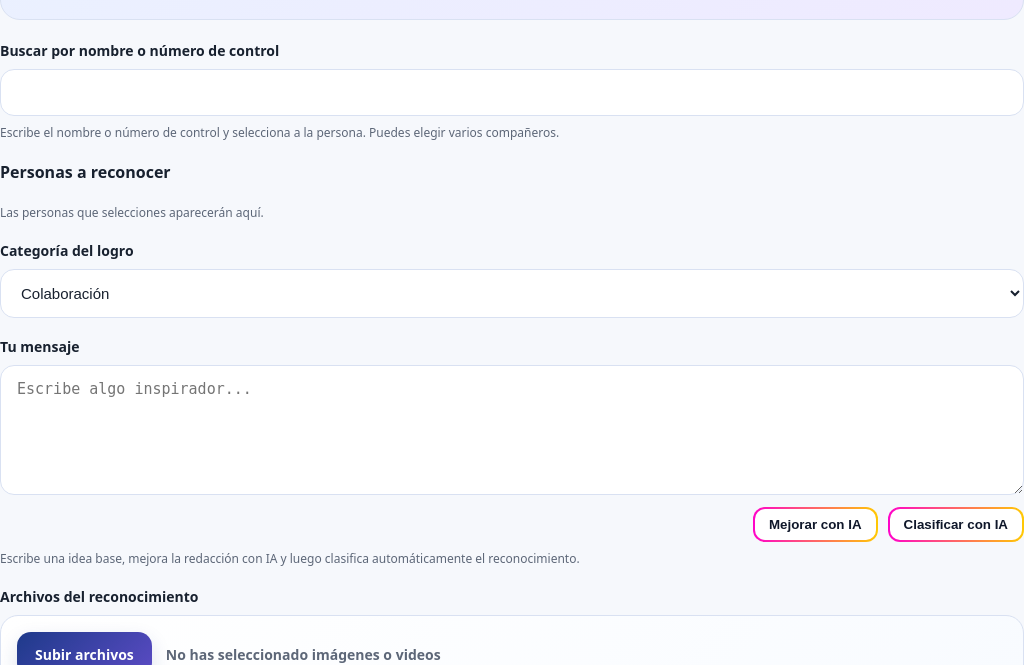
uses the same search field for control numbers and excludes selected people
Type "220113033" into the field labelled "Buscar por nombre o número de control" at (512, 93), box [0,69,1023,116]
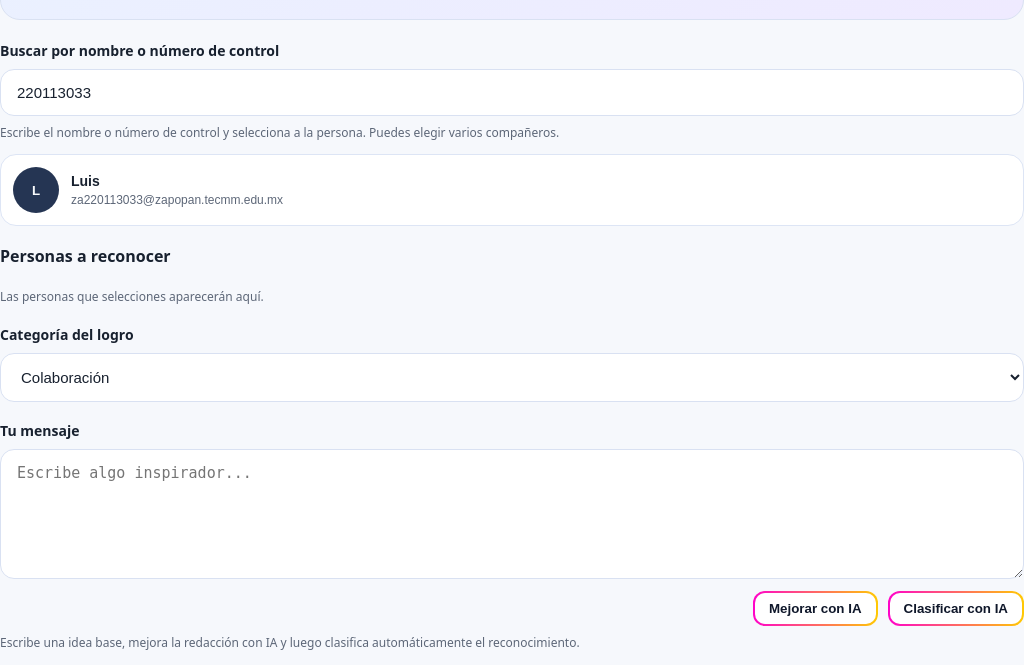
Click the button "L Luis za220113033@zapopan.tecmm.edu.mx" at (36, 190), box [0,154,1023,226]
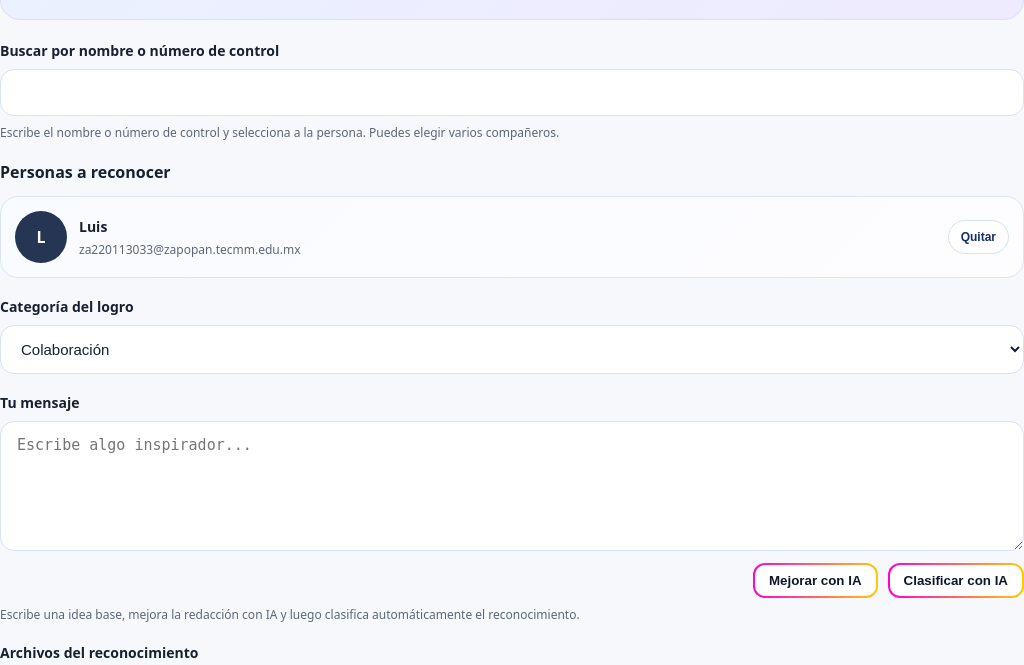
Result: the field labelled "Buscar por nombre o número de control" is empty
Result: the number of list items is 1 at [0,196,1023,278]
Type "220113033" into the field labelled "Buscar por nombre o número de control" at (512, 93), box [0,69,1023,116]
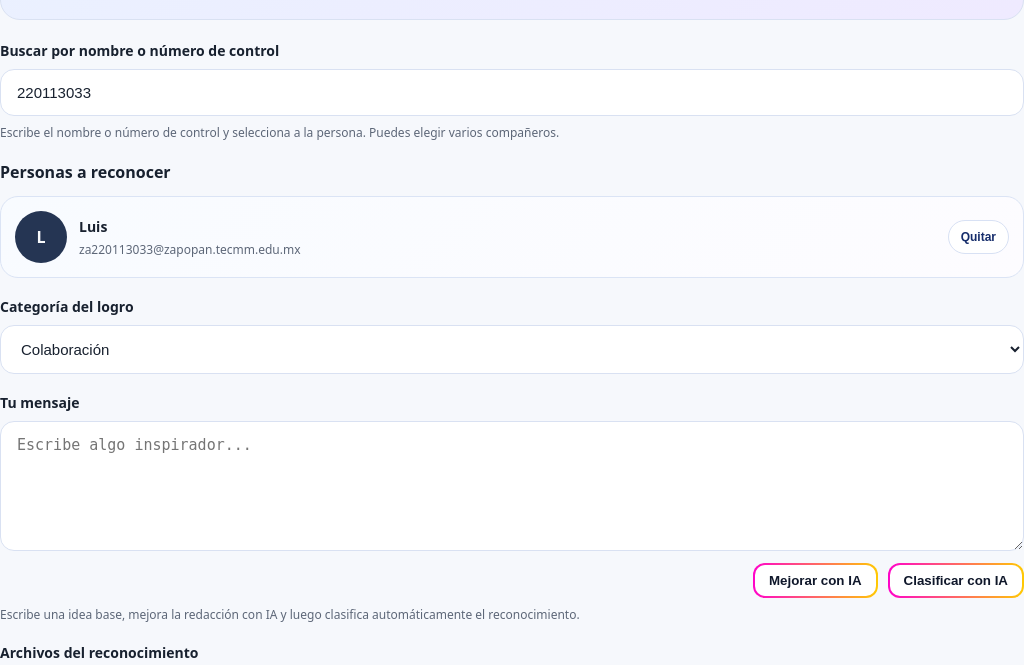
Result: the number of list items is 1 at [0,196,1023,278]
Clear the field labelled "Buscar por nombre o número de control" at (512, 93), box [0,69,1023,116]
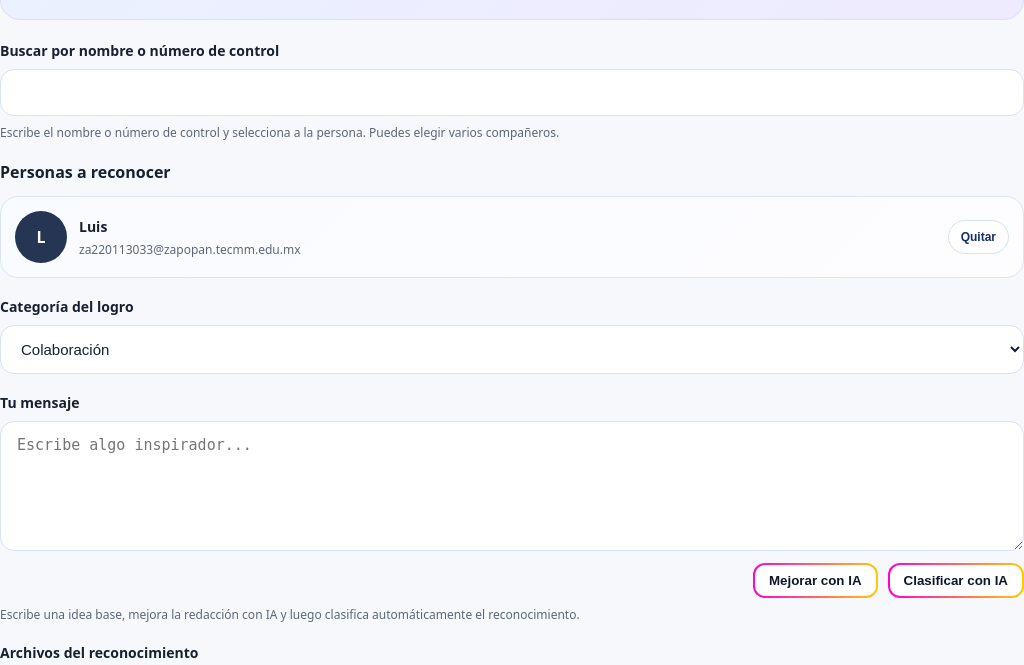
Type "Gracias por apoyar al equipo" into the text box with placeholder "Escribe algo inspirador..." at (512, 486), box [0,421,1023,551]
(page scrolled)
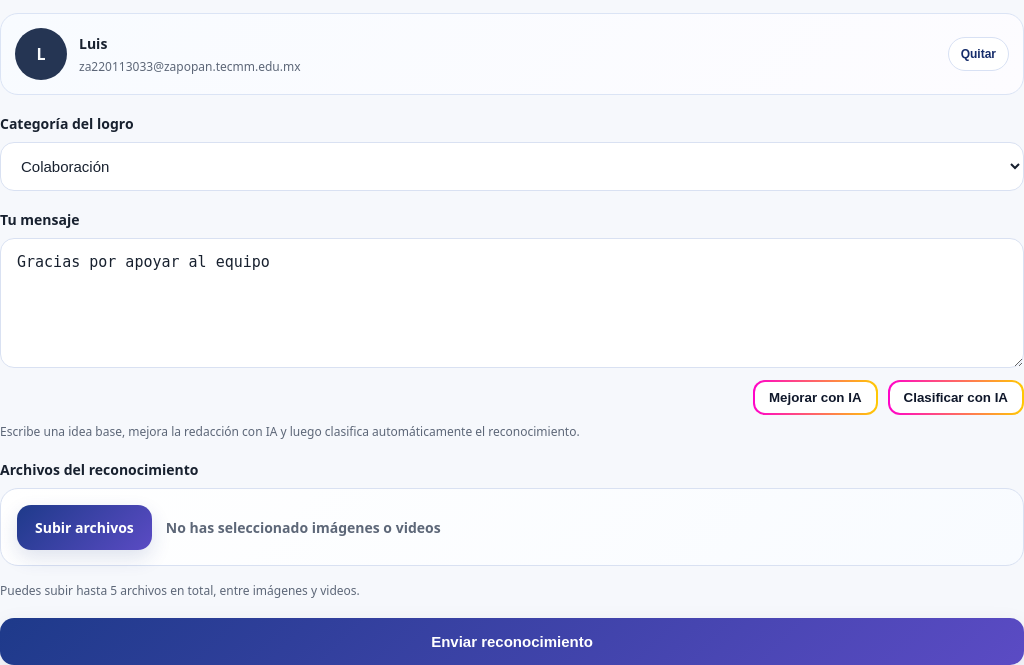
Click the button "Enviar reconocimiento" at (512, 642), box [0,618,1023,664]
(page scrolled)
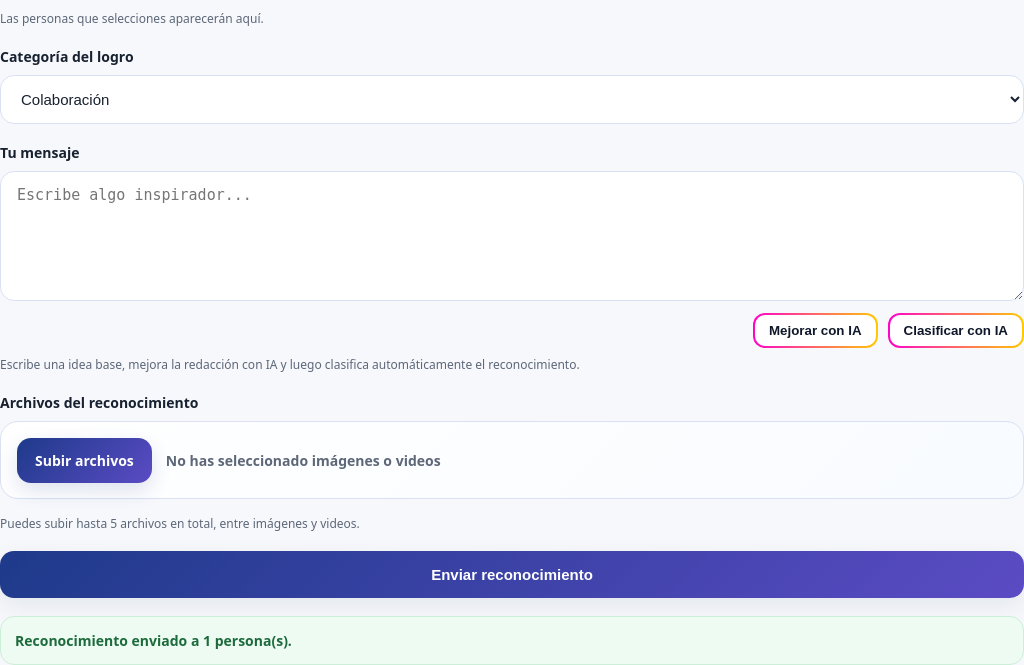
Result: the text "Reconocimiento enviado a 1 persona(s)." is shown at [0,616,1023,664]
